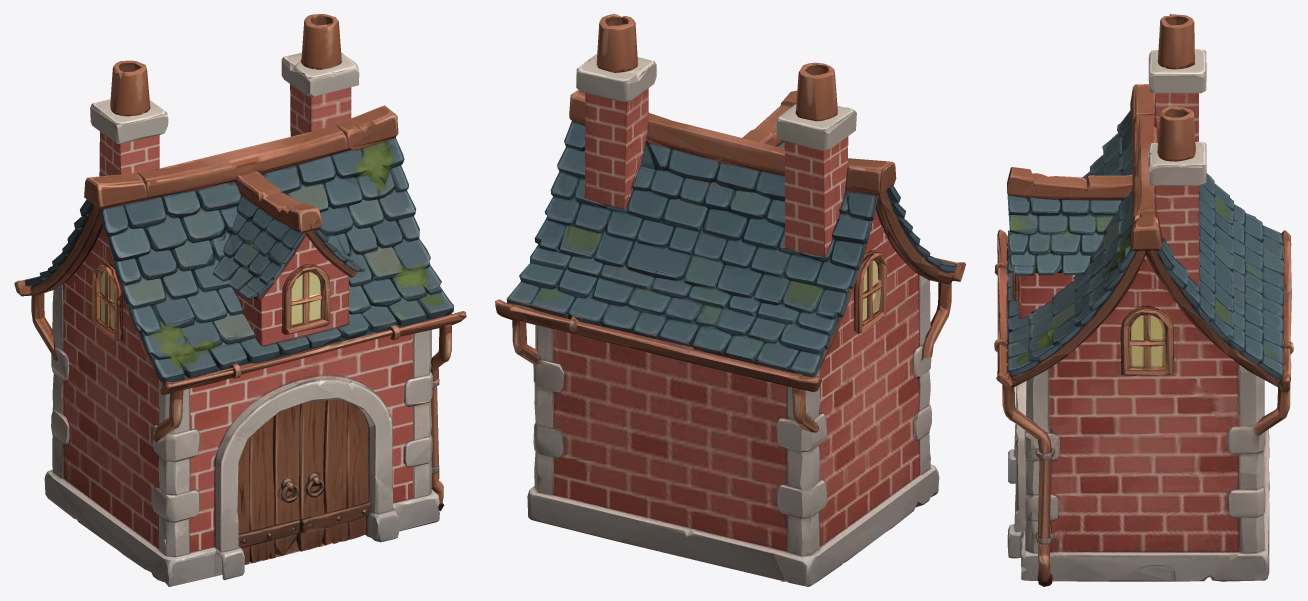
The model's file is factory.glb.
The picture shows the model from 3 angles, left to right: view 1: azimuth 30°, elevation 25°; view 2: azimuth 150°, elevation 25°; view 3: azimuth 270°, elevation 25°; orthographic projection. The views are drawn at different scales.
Bounding box in the file's own units: 1.35 × 1.89 × 1.14.
1 material, 1 textured.
